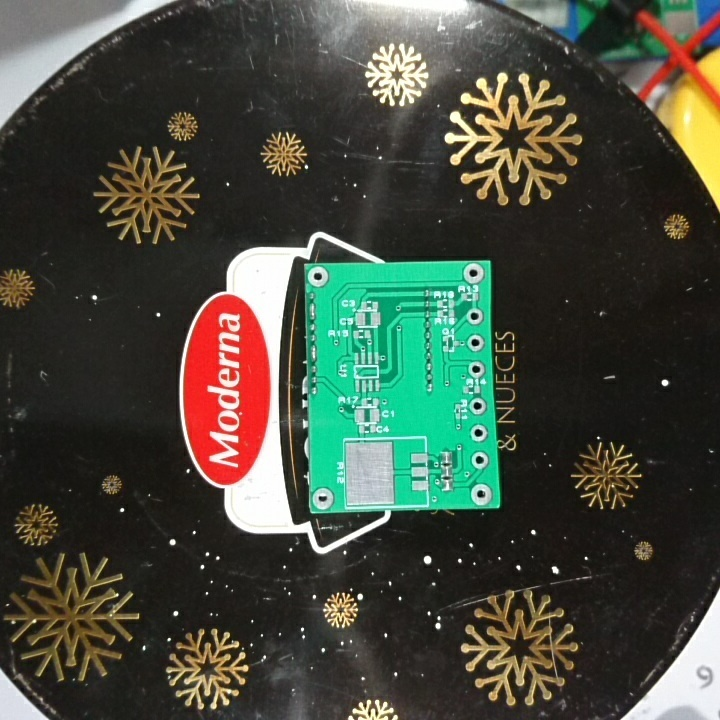F: (311, 485, 336, 512), (460, 261, 485, 286), (469, 481, 494, 506), (305, 265, 331, 288), (468, 423, 490, 446), (469, 449, 490, 472), (465, 357, 486, 379), (464, 332, 487, 352), (465, 306, 485, 328), (468, 398, 489, 418)
P: (305, 300, 319, 321), (308, 343, 321, 362)
